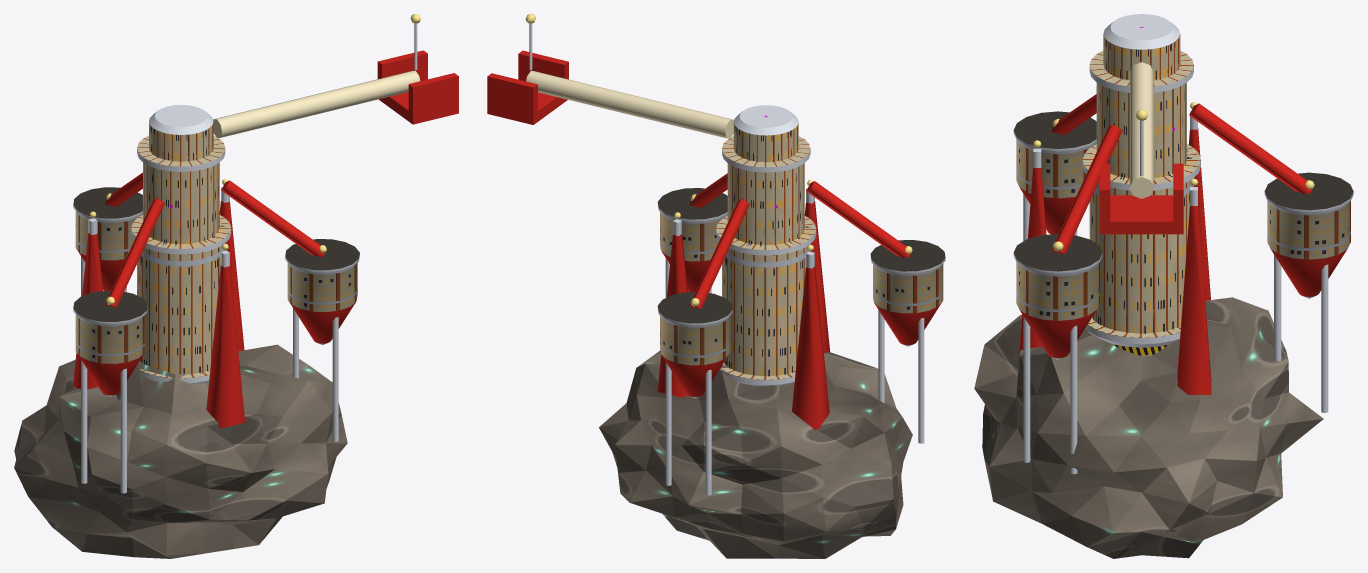
The model's file is mining_facility.obj.
3 renders of one model, left to right at view 1: azimuth 30°, elevation 25°; view 2: azimuth 150°, elevation 25°; view 3: azimuth 270°, elevation 25°, orthographic. The views are drawn at different scales.
Visible parts, largest first — view 1: rock, tower, hopper, derrick, dock_arm, conveyor, leg, cradle_side, cradle; view 2: rock, tower, hopper, derrick, dock_arm, conveyor, leg, cradle_side, cradle; view 3: rock, tower, hopper, derrick, conveyor, leg, dock_arm, cradle, cradle_side.
Part boxes in pixels (<box>): rock: <box>14,344,347,558</box>; tower: <box>131,105,231,383</box>; hopper: <box>73,187,359,396</box>; derrick: <box>73,186,245,428</box>; dock_arm: <box>213,70,420,137</box>; conveyor: <box>104,172,324,307</box>; leg: <box>81,256,338,493</box>; cradle_side: <box>377,50,458,113</box>; cradle: <box>379,92,458,124</box>; rock: <box>599,350,912,558</box>; tower: <box>716,105,816,386</box>; hopper: <box>657,188,945,398</box>; derrick: <box>657,188,830,430</box>; dock_arm: <box>526,71,733,138</box>; conveyor: <box>689,173,910,308</box>; leg: <box>665,258,924,495</box>; cradle_side: <box>487,50,568,114</box>; cradle: <box>487,92,567,124</box>; rock: <box>974,297,1323,558</box>; tower: <box>1082,14,1200,356</box>; hopper: <box>1013,111,1353,359</box>; derrick: <box>1020,110,1211,394</box>; conveyor: <box>1051,94,1311,254</box>; leg: <box>1023,194,1328,474</box>; dock_arm: <box>1129,62,1153,198</box>; cradle: <box>1100,195,1183,234</box>; cradle_side: <box>1100,163,1183,221</box>.
Bounding box in the file's own units: 160 × 177 × 109.
8 materials, 2 textured.
